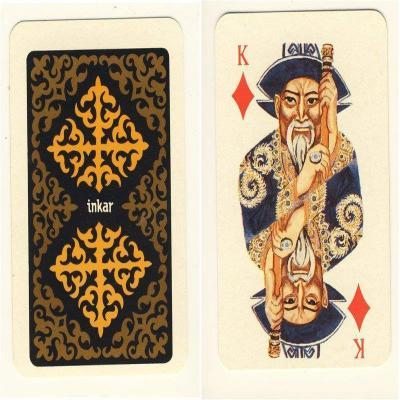graphics: (8, 17, 188, 379), (214, 9, 392, 371)
